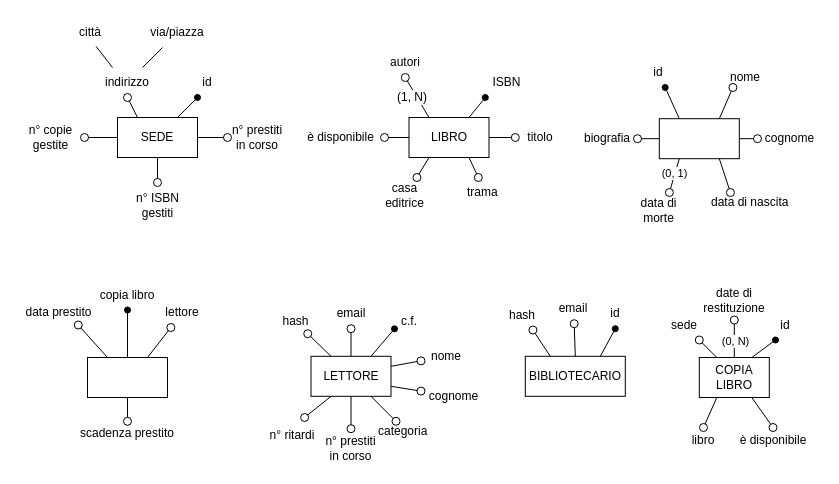
Image size: 839x484. Some labels were removed from this diagram. Here are the shapes that lost their labels. From the top down, the centre of each, then its label:
At (x=698, y=138): "AUTORE".
At (x=127, y=377): "PRESTITO IN CORSO".
